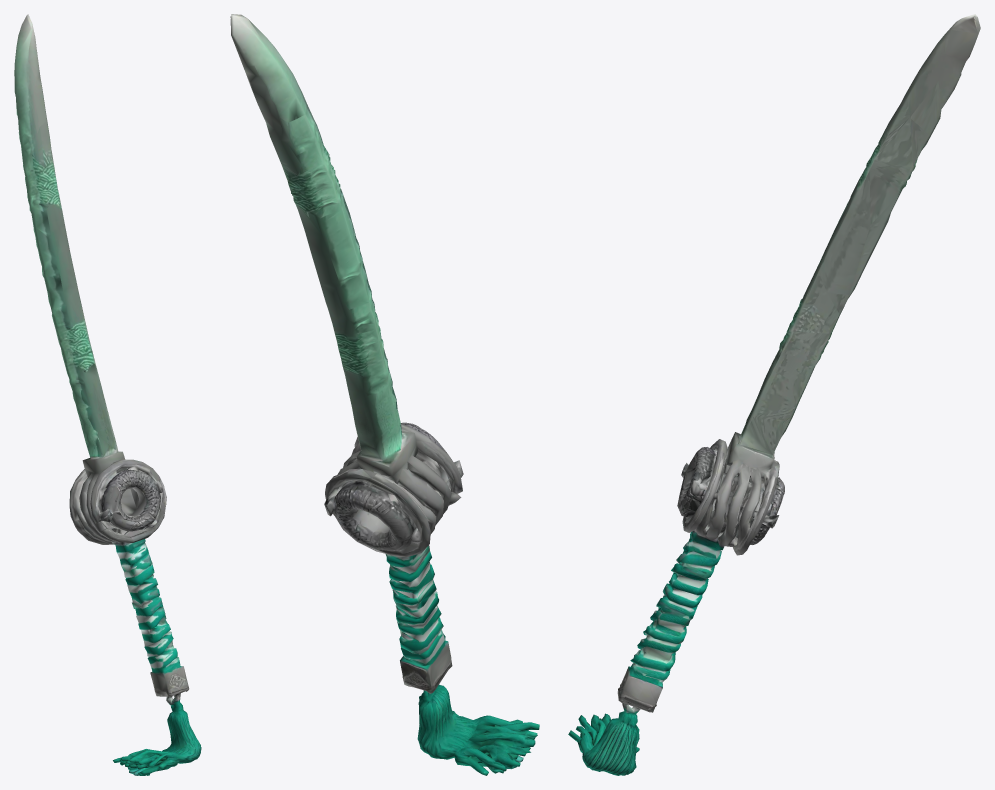
The model's file is prop_hayate_nodachi.fbx.
3 renders of one model, left to right at view 1: azimuth 30°, elevation 25°; view 2: azimuth 150°, elevation 25°; view 3: azimuth 270°, elevation 25°, orthographic. The views are drawn at different scales.
Visible parts, largest first — view 1: tripo_node_e74a7346-39bb-4525-a202-9503d9ee5f98; view 2: tripo_node_e74a7346-39bb-4525-a202-9503d9ee5f98; view 3: tripo_node_e74a7346-39bb-4525-a202-9503d9ee5f98.
Boxes of the visible parts, bbox=[...] form: tripo_node_e74a7346-39bb-4525-a202-9503d9ee5f98: bbox=[14, 14, 201, 775]; tripo_node_e74a7346-39bb-4525-a202-9503d9ee5f98: bbox=[230, 14, 539, 775]; tripo_node_e74a7346-39bb-4525-a202-9503d9ee5f98: bbox=[568, 14, 980, 775].
Bounding box in the file's own units: 0.1363 × 0.9808 × 0.4817.
